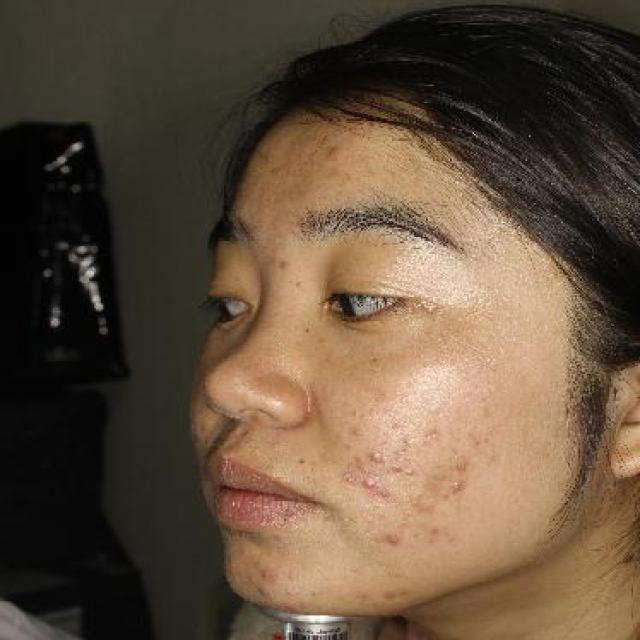Acne: (376, 524, 411, 556), (356, 469, 385, 497), (440, 474, 472, 497), (320, 140, 349, 162), (366, 443, 387, 472)
Whiteheads: (399, 458, 424, 482)
